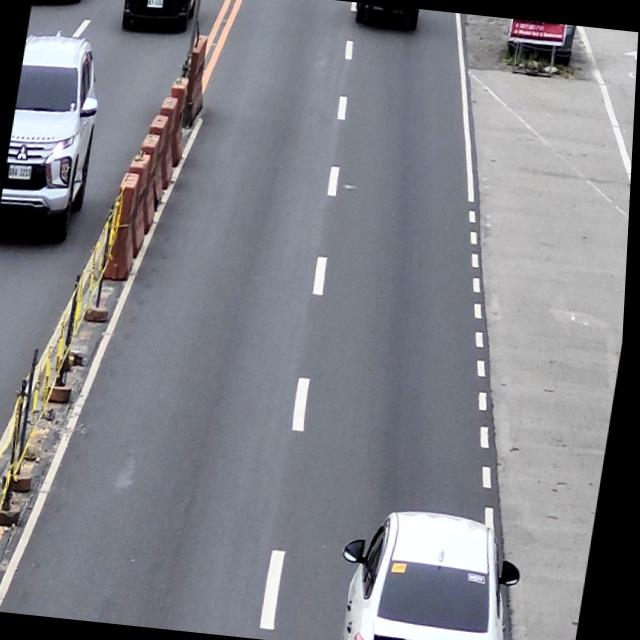Car: (353, 506, 522, 640)
